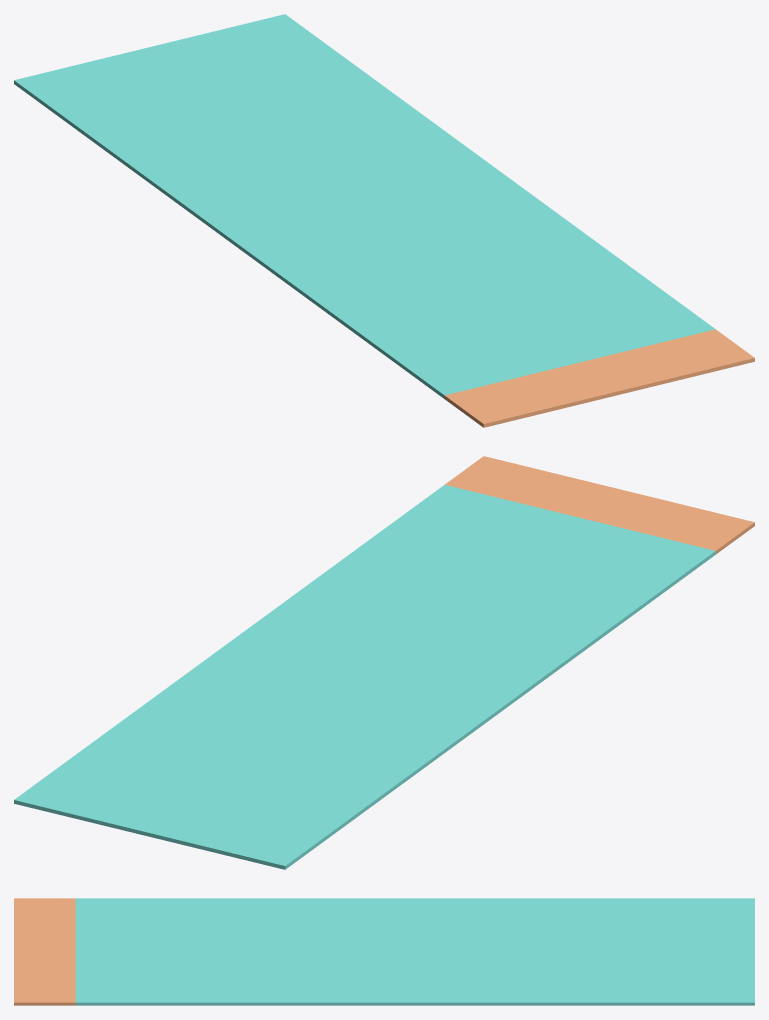
The model's file is esterilla.glb.
3 views of the same model, one above another, from view 1: azimuth 30°, elevation 25°; view 2: azimuth 150°, elevation 25°; view 3: azimuth 270°, elevation 25° (orthographic). The views are drawn at different scales.
Parts seen in each view (by area): view 1: Esterilla; view 2: Esterilla; view 3: Esterilla.
Boxes of the visible parts, x1,y1,x2,y2 form: Esterilla: (14,14,754,427); Esterilla: (14,456,754,869); Esterilla: (14,898,754,1005).
Bounding box in the file's own units: 0.6 × 0.008 × 1.8.
